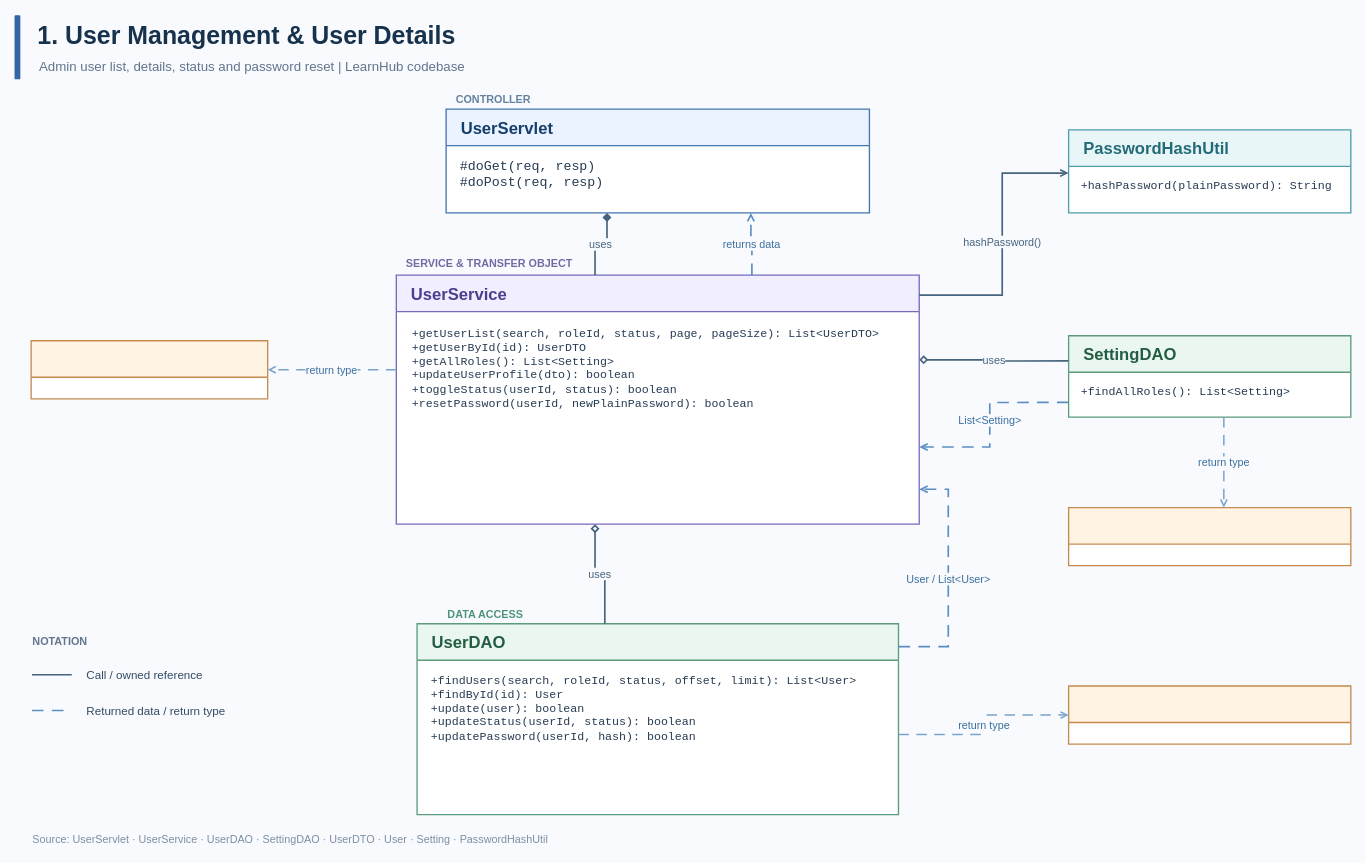
This 1365x863 diagram has some shape labels left out. Here are the shapes that lost their labels. From the top down, the centre of each, then its label:
At point 149,369: "UserDTO".
At point 1209,536: "Setting".
At point 1209,714: "User".
